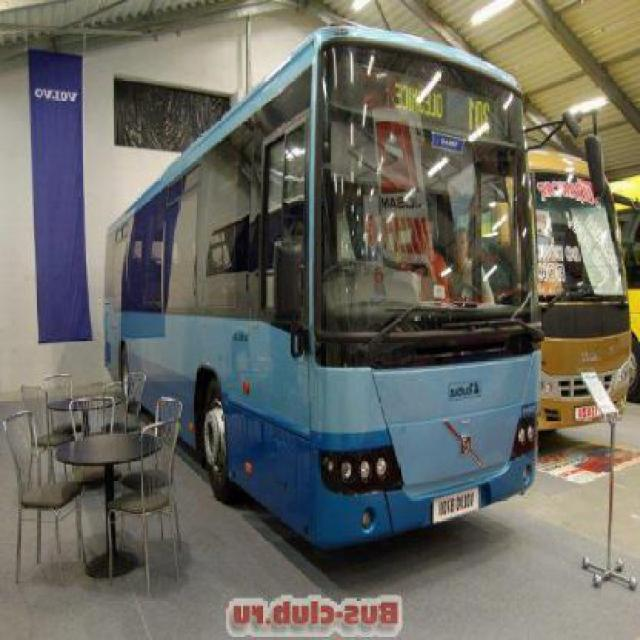bus: (99, 27, 536, 559)
